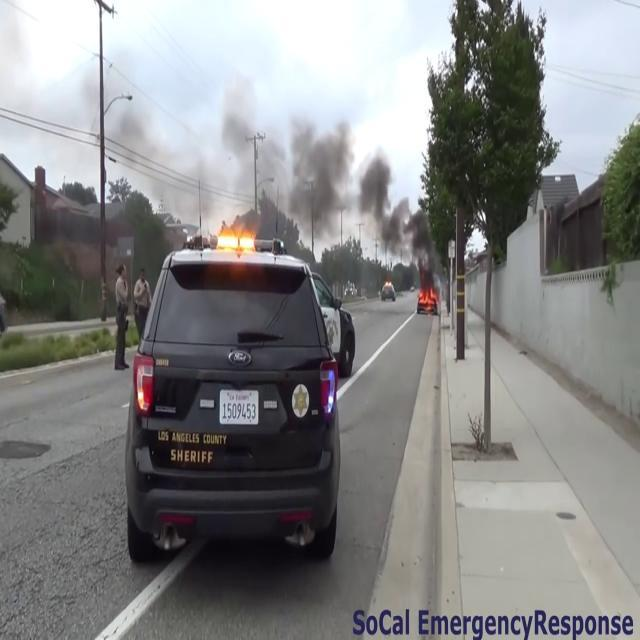Fire: (418, 277, 438, 314)
Smoke: (186, 47, 411, 253)
